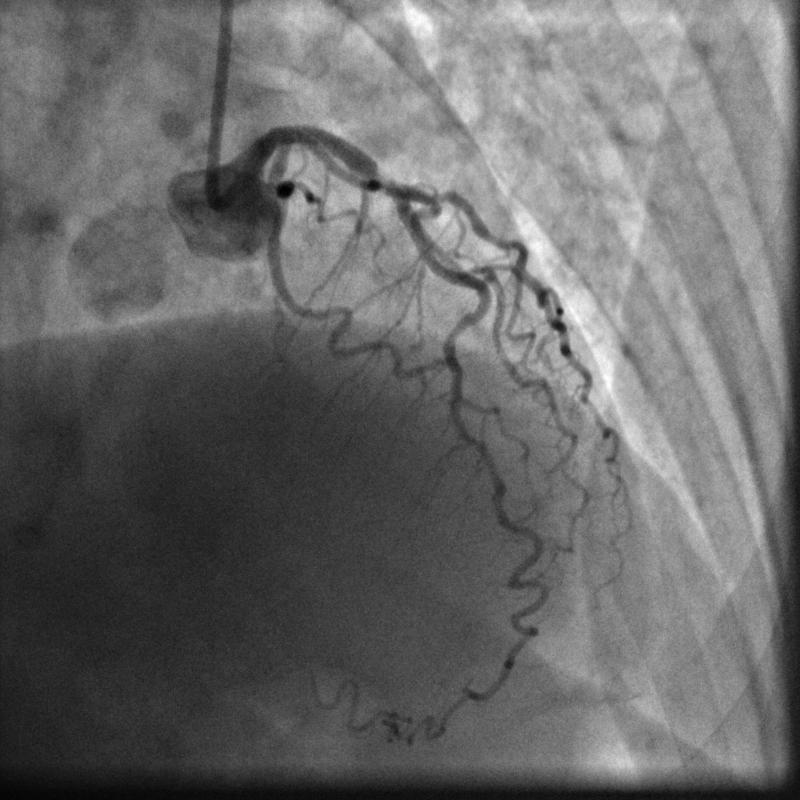Stenosis: (377, 173, 393, 201)
